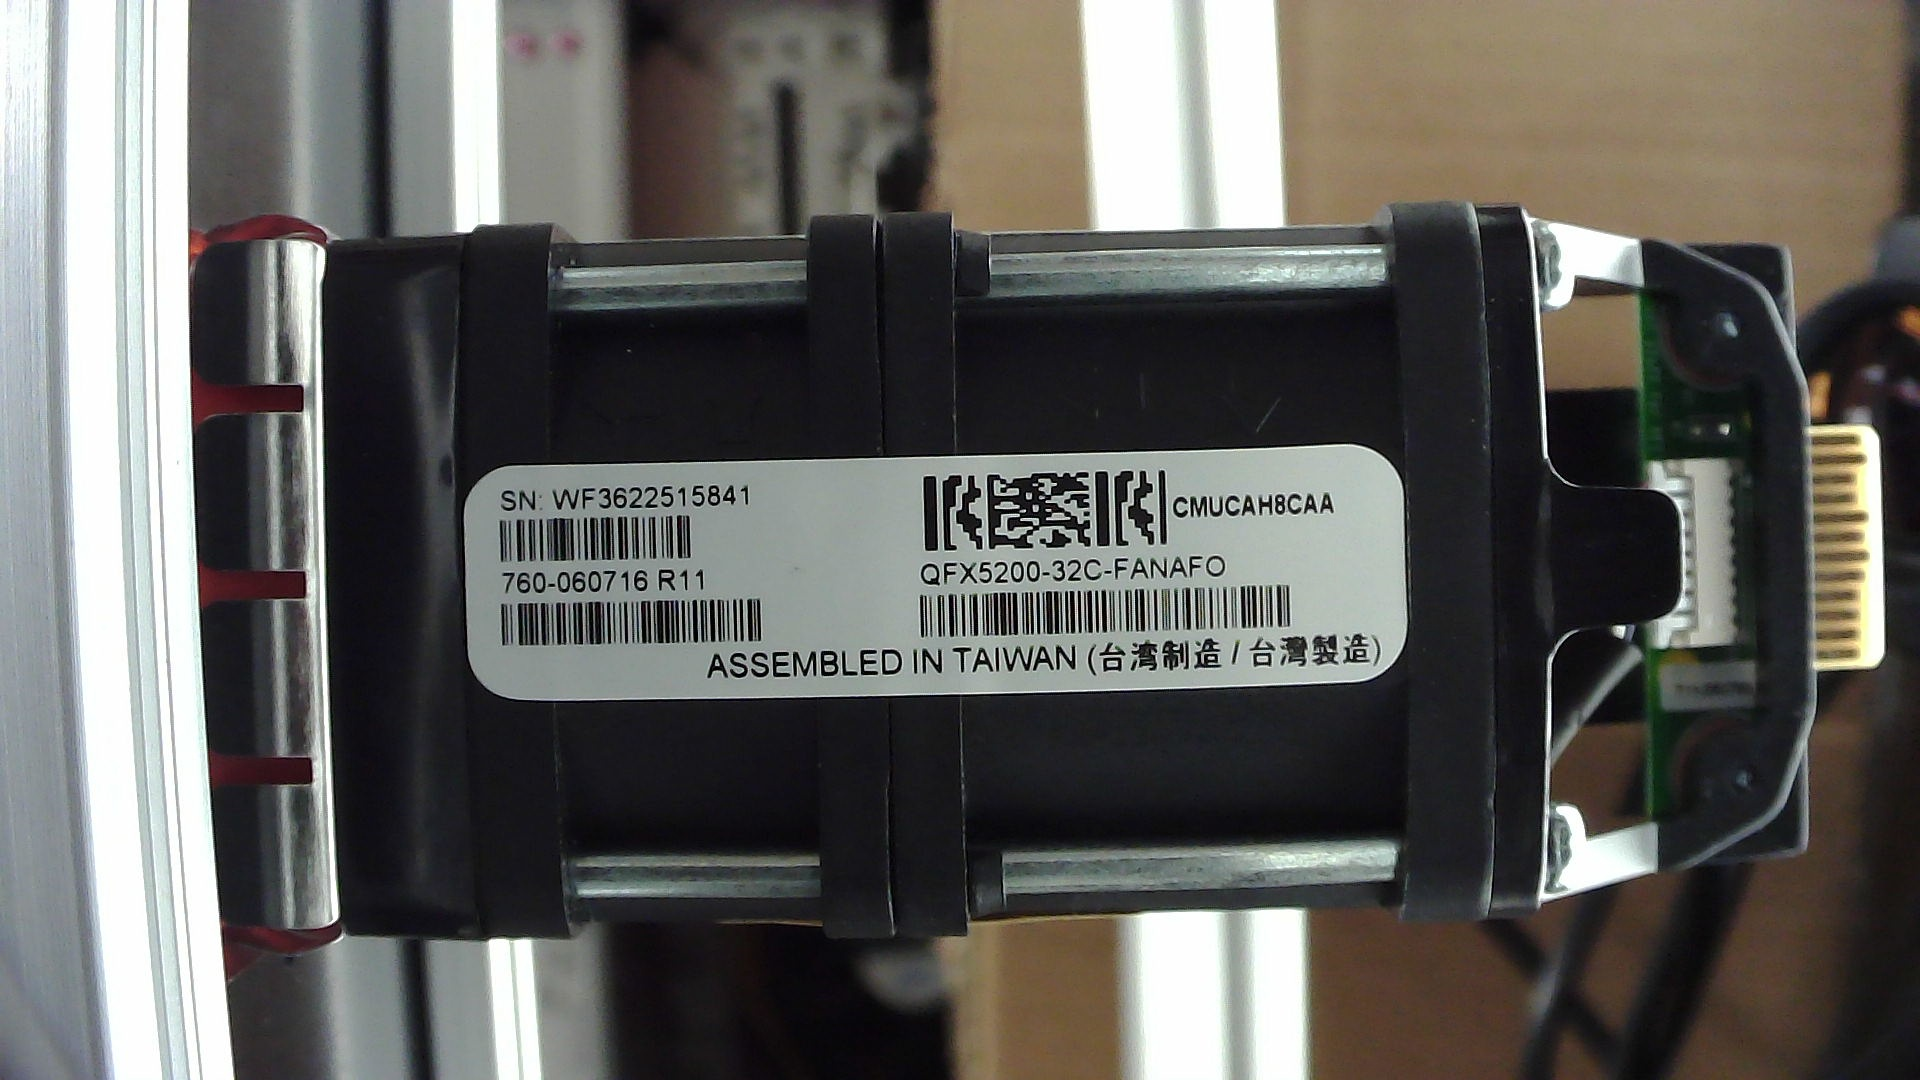2_0: (102, 137, 1913, 1004)
